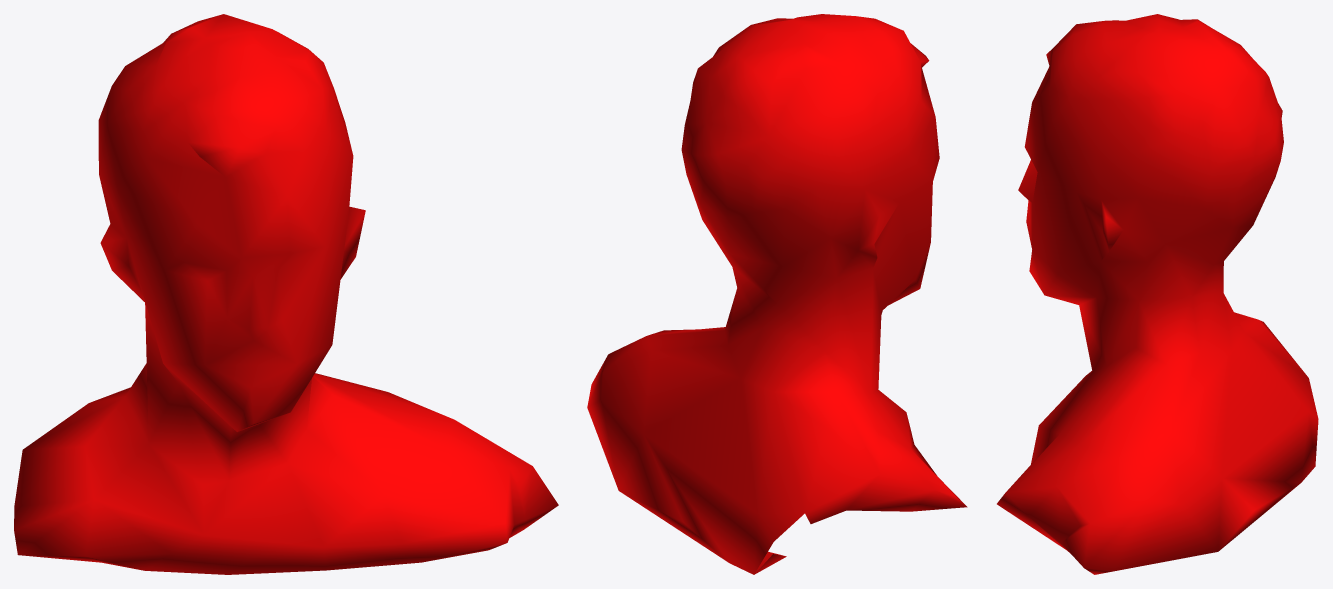
Rendered from face_static.fbx.
3 views of the same model, side by side, from view 1: azimuth 30°, elevation 25°; view 2: azimuth 150°, elevation 25°; view 3: azimuth 270°, elevation 25° (orthographic). The views are drawn at different scales.
Parts seen in each view (by area): view 1: pjan; view 2: pjan; view 3: pjan.
Part boxes in pixels (x1,y1,x2,y2): pjan: (14, 14, 558, 574); pjan: (587, 14, 967, 574); pjan: (997, 14, 1318, 574).
Size of the model in its own units: 5.59 by 6.13 by 3.84.
